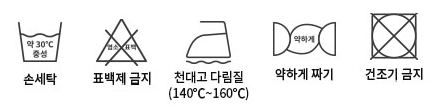KR_gentle_wring: (265, 15, 341, 60)
KR_hand_wash_30_neutral: (14, 17, 63, 65)
KR_no_chlorine_bleach: (89, 14, 150, 67)
KR_no_tumble_dry: (366, 10, 420, 62)
